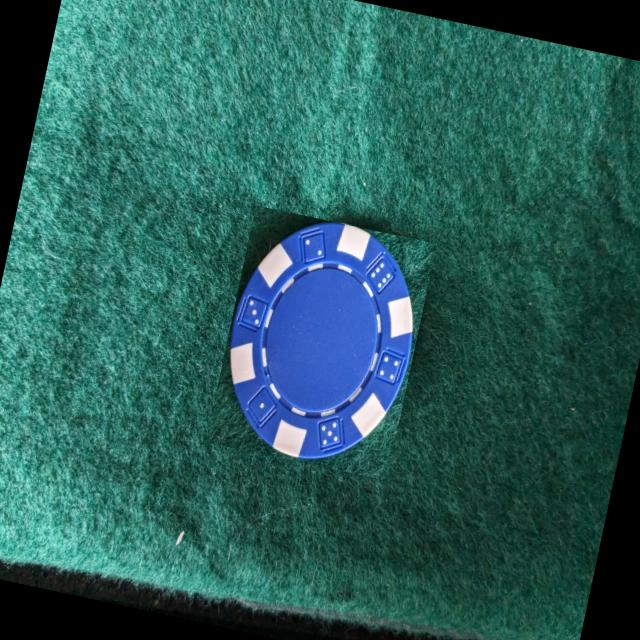blue chip: (229, 223, 414, 463)
